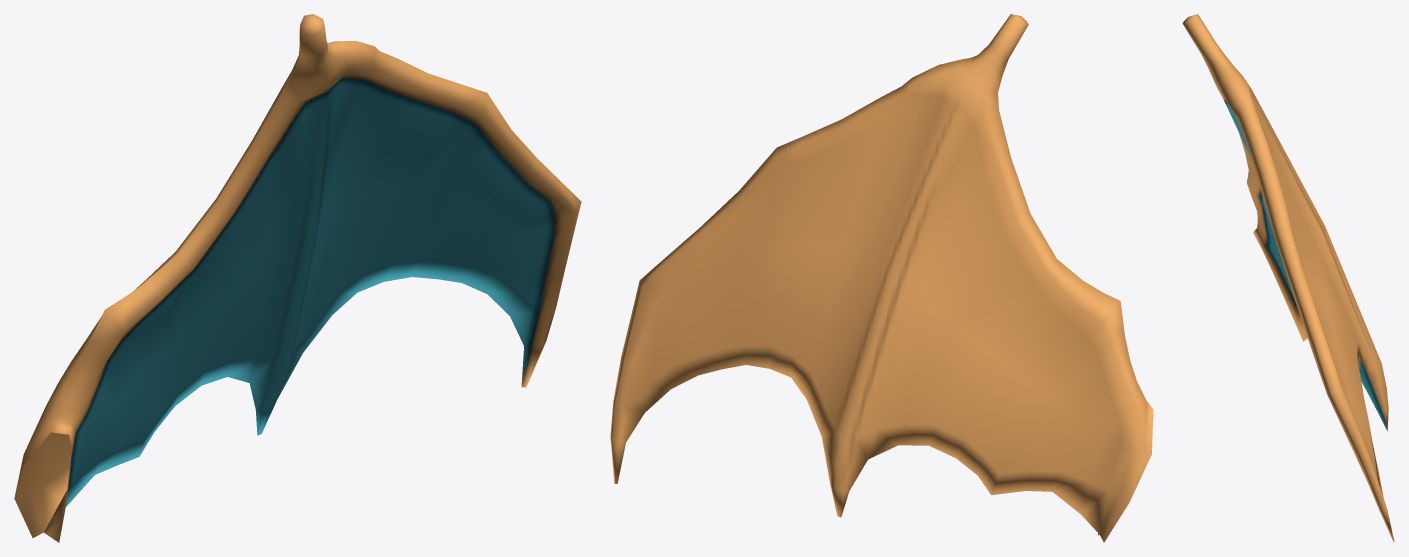
Rendered from ala_izq.obj.
The picture shows the model from 3 angles, left to right: view 1: azimuth 30°, elevation 25°; view 2: azimuth 150°, elevation 25°; view 3: azimuth 270°, elevation 25°; orthographic projection. The views are drawn at different scales.
Parts seen in each view (by area): view 1: Ala_izq; view 2: Ala_izq; view 3: Ala_izq.
Part boxes in pixels (<box>): Ala_izq: <box>14,14,581,542</box>; Ala_izq: <box>610,14,1153,542</box>; Ala_izq: <box>1182,14,1394,542</box>.
Bounding box in the file's own units: 8.66 × 7.77 × 3.7.
